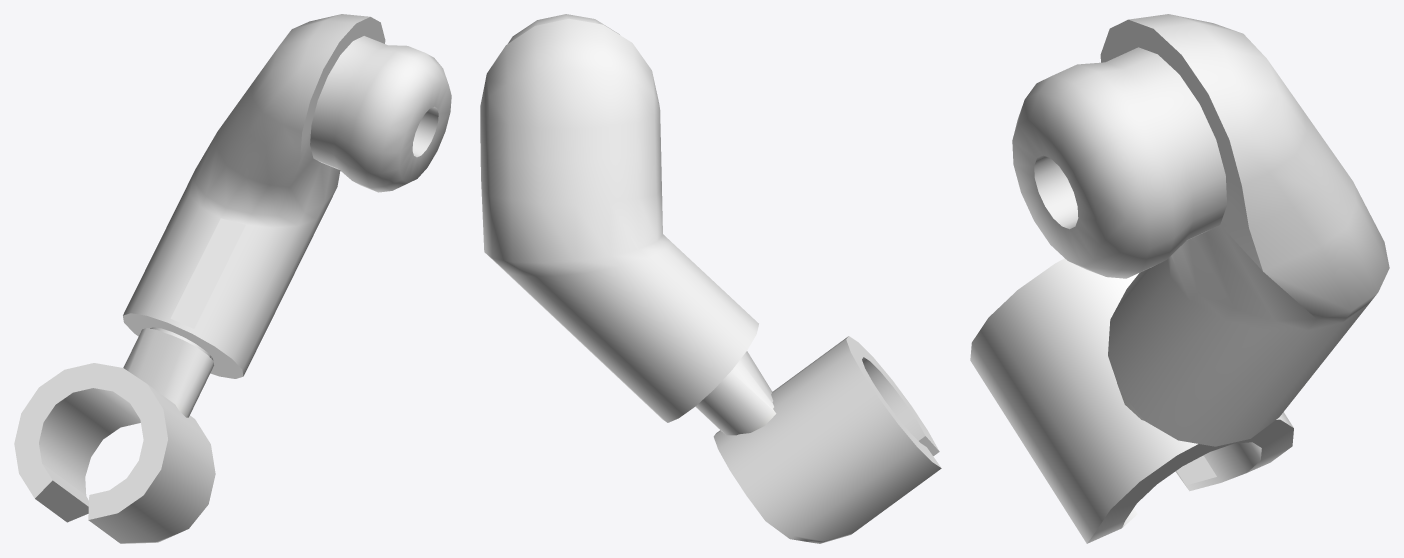
File: person2BrazoD.obj
3 views of the same model, side by side, from view 1: azimuth 30°, elevation 25°; view 2: azimuth 150°, elevation 25°; view 3: azimuth 270°, elevation 25° (orthographic). The views are drawn at different scales.
Visible parts, largest first — view 1: person1:legocharacter2rhand7 group1, group1 person1:legocharacter2lhand18, group1 person1:legocharacter2rhand8; view 2: person1:legocharacter2rhand7 group1, group1 person1:legocharacter2lhand18, group1 person1:legocharacter2rhand8; view 3: person1:legocharacter2rhand7 group1, group1 person1:legocharacter2lhand18.
Boxes of the visible parts, x1,y1,x2,y2 form: person1:legocharacter2rhand7 group1: [123, 14, 451, 378]; group1 person1:legocharacter2lhand18: [14, 363, 215, 543]; group1 person1:legocharacter2rhand8: [123, 327, 213, 417]; person1:legocharacter2rhand7 group1: [480, 14, 758, 422]; group1 person1:legocharacter2lhand18: [713, 336, 941, 543]; group1 person1:legocharacter2rhand8: [695, 351, 776, 435]; person1:legocharacter2rhand7 group1: [1012, 14, 1389, 446]; group1 person1:legocharacter2lhand18: [970, 258, 1293, 543].
Bounding box in the file's own units: 0.8085 × 0.8128 × 0.4674.
3 materials, 2 textured.
